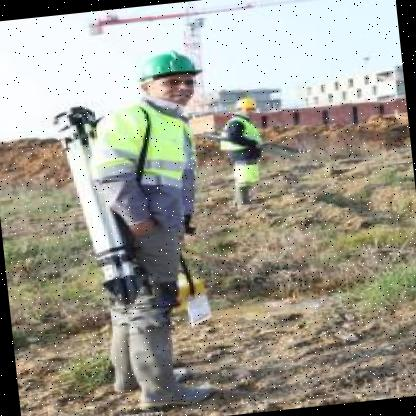capacete: (131, 44, 206, 93), (232, 93, 259, 117)
